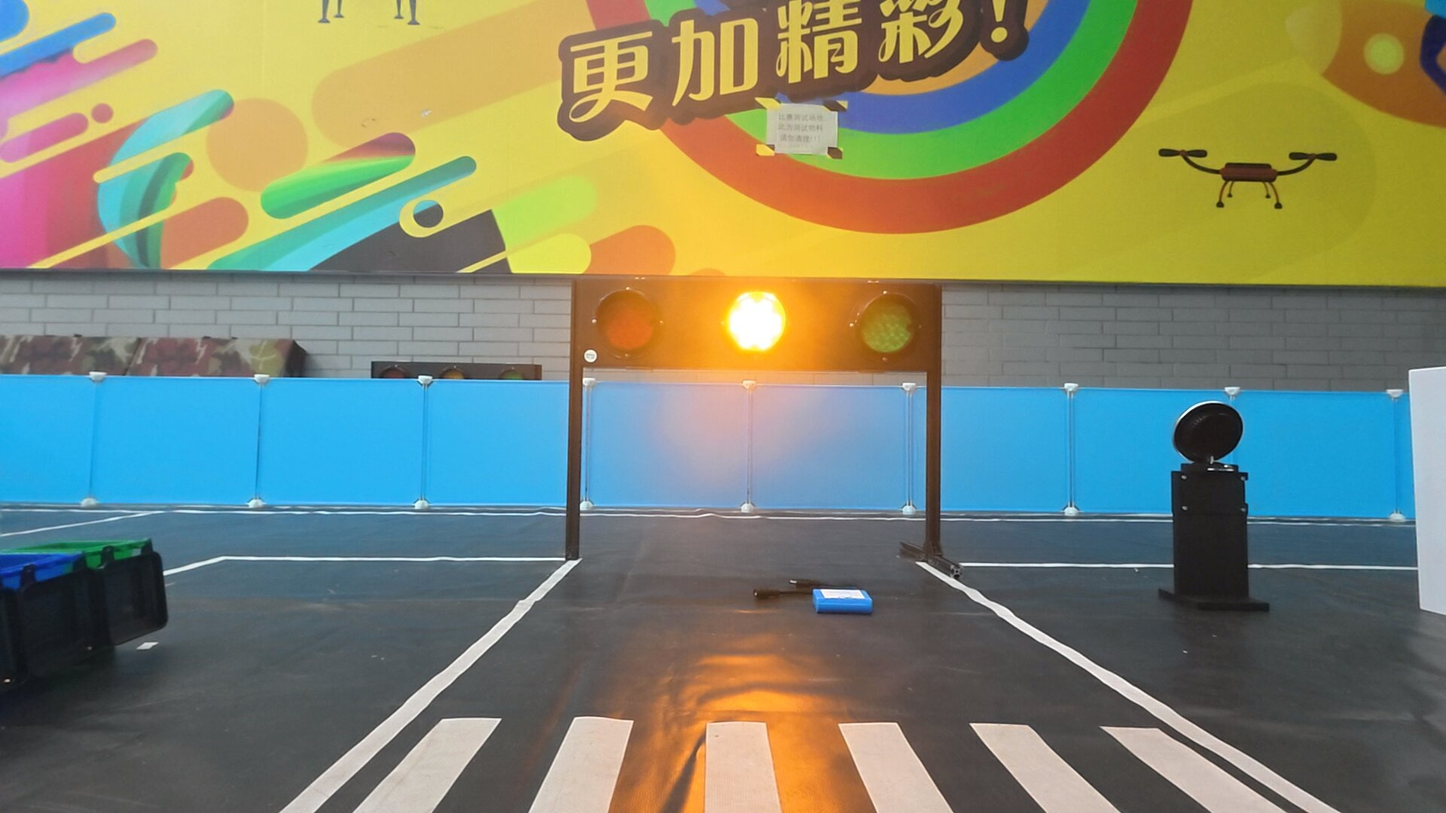stop: (724, 288, 792, 354)
